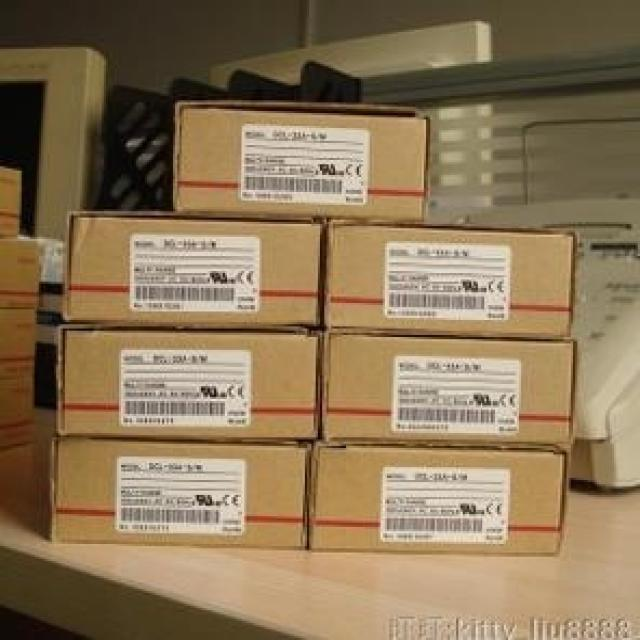box: (175, 103, 434, 223), (63, 213, 323, 332), (58, 326, 325, 440), (322, 219, 576, 337), (50, 437, 315, 548), (308, 444, 570, 555), (322, 333, 576, 444), (0, 237, 42, 308), (0, 307, 39, 380), (0, 377, 35, 448), (0, 169, 19, 238)
